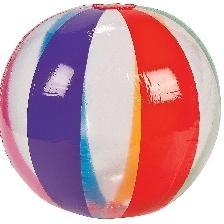Sports-Ball: (2, 3, 224, 219)
